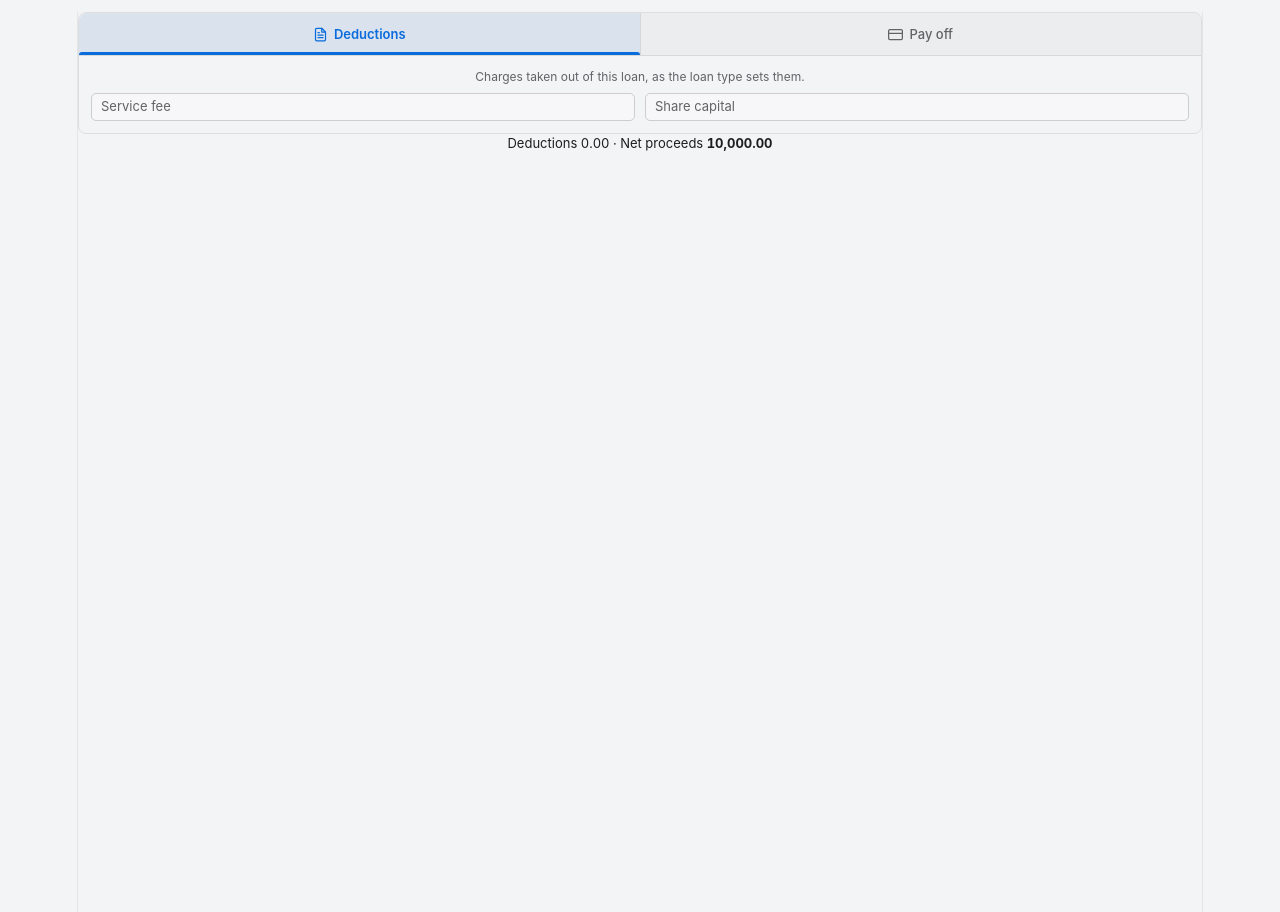
Scenario: Deductions and pay off › says when there is nothing to pay off
Click the tab "Pay off" at (920, 34), box [640,13,1201,55]
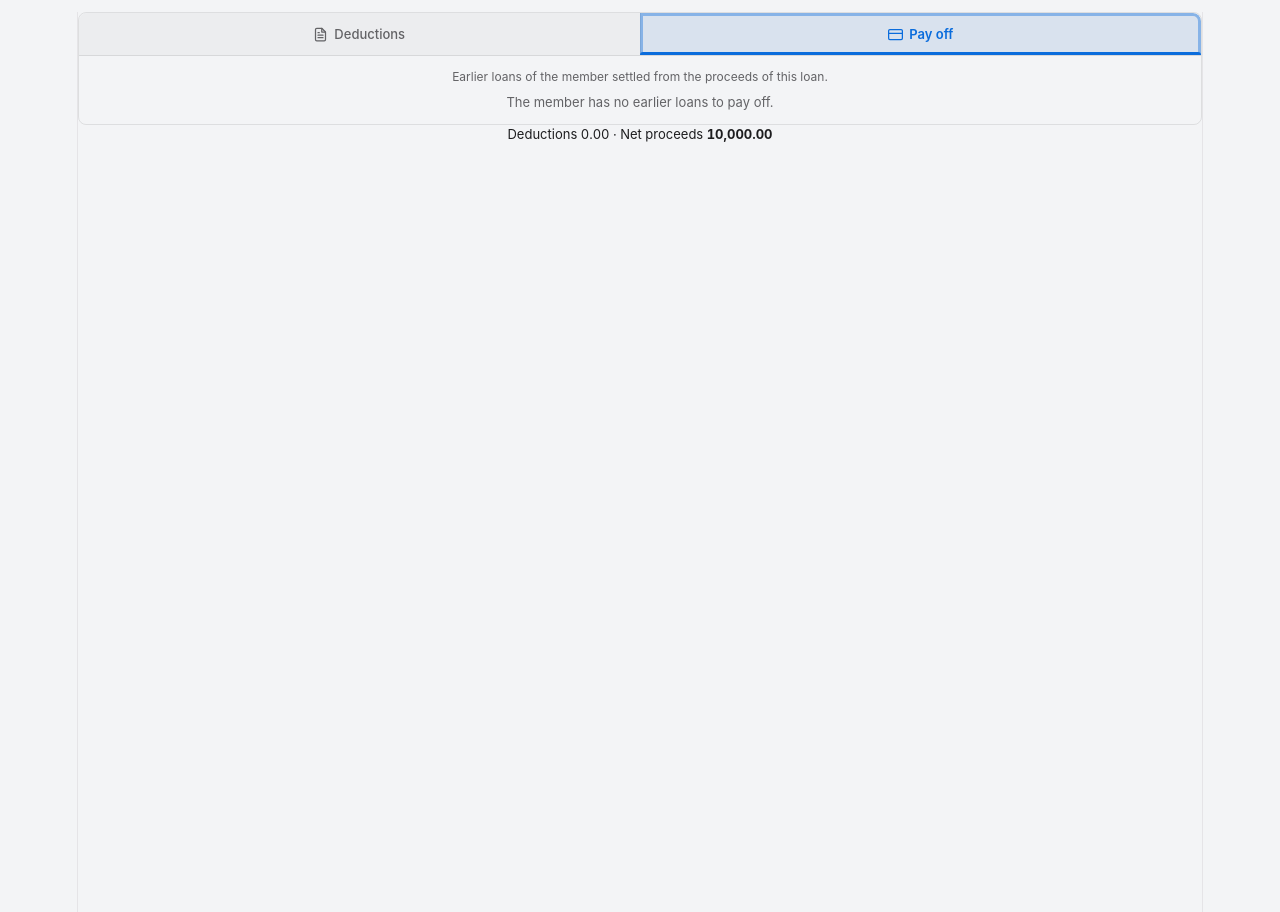
Expected: the text "The member has no earlier loans to pay off." is shown, [506,94,774,110]
